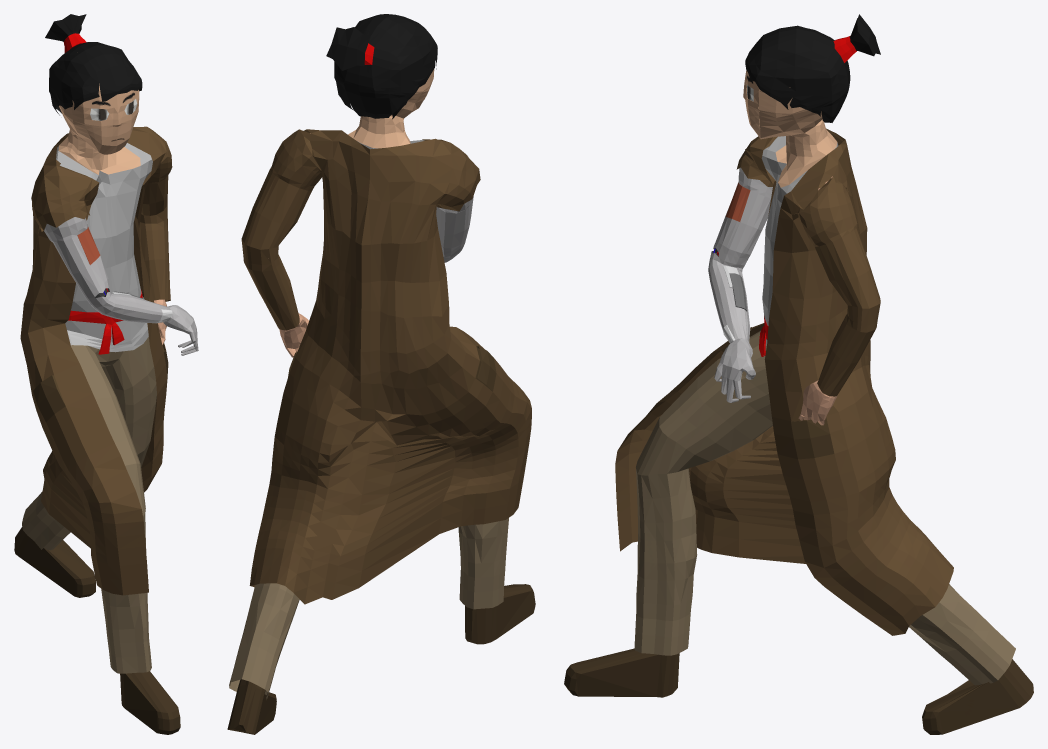
File: Special_Attack_000035.obj
3 views of the same model, side by side, from view 1: azimuth 30°, elevation 25°; view 2: azimuth 150°, elevation 25°; view 3: azimuth 270°, elevation 25° (orthographic). The views are drawn at different scales.
Parts seen in each view (by area): view 1: Hair_Cube.004; view 2: Hair_Cube.004; view 3: Hair_Cube.004.
Part boxes in pixels (x1,y1,x2,y2): Hair_Cube.004: (14,14,198,734); Hair_Cube.004: (227,14,535,734); Hair_Cube.004: (564,14,1033,734).
Bounding box in the file's own units: 1.09 × 3.68 × 2.28.
